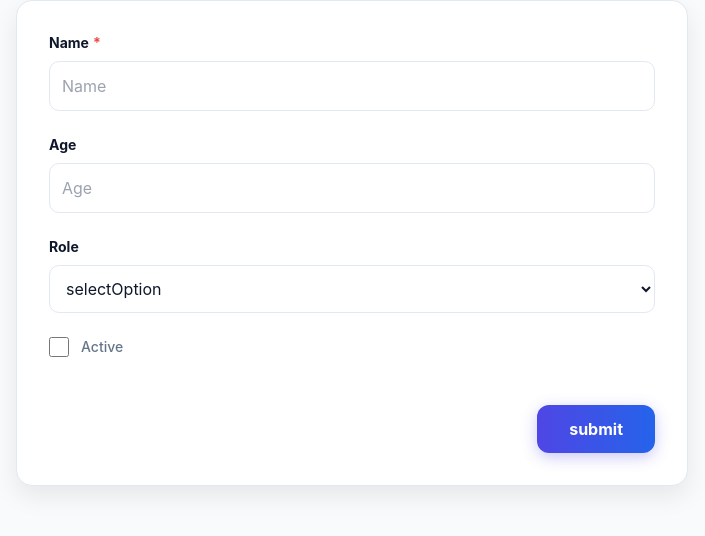
Test: FormRenderer › shows validation error for required field when submitted empty
Click the button "submit" at (596, 429), box left=537, top=405, right=655, bottom=453
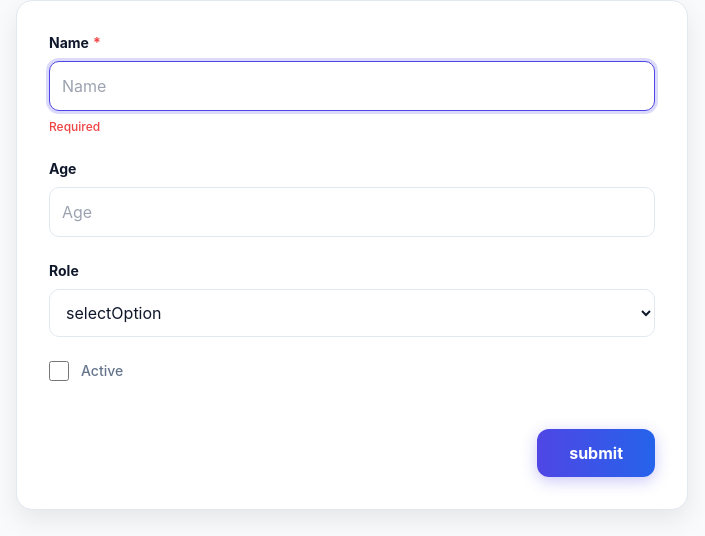
Now the text "Required" is shown, box left=49, top=119, right=100, bottom=134
